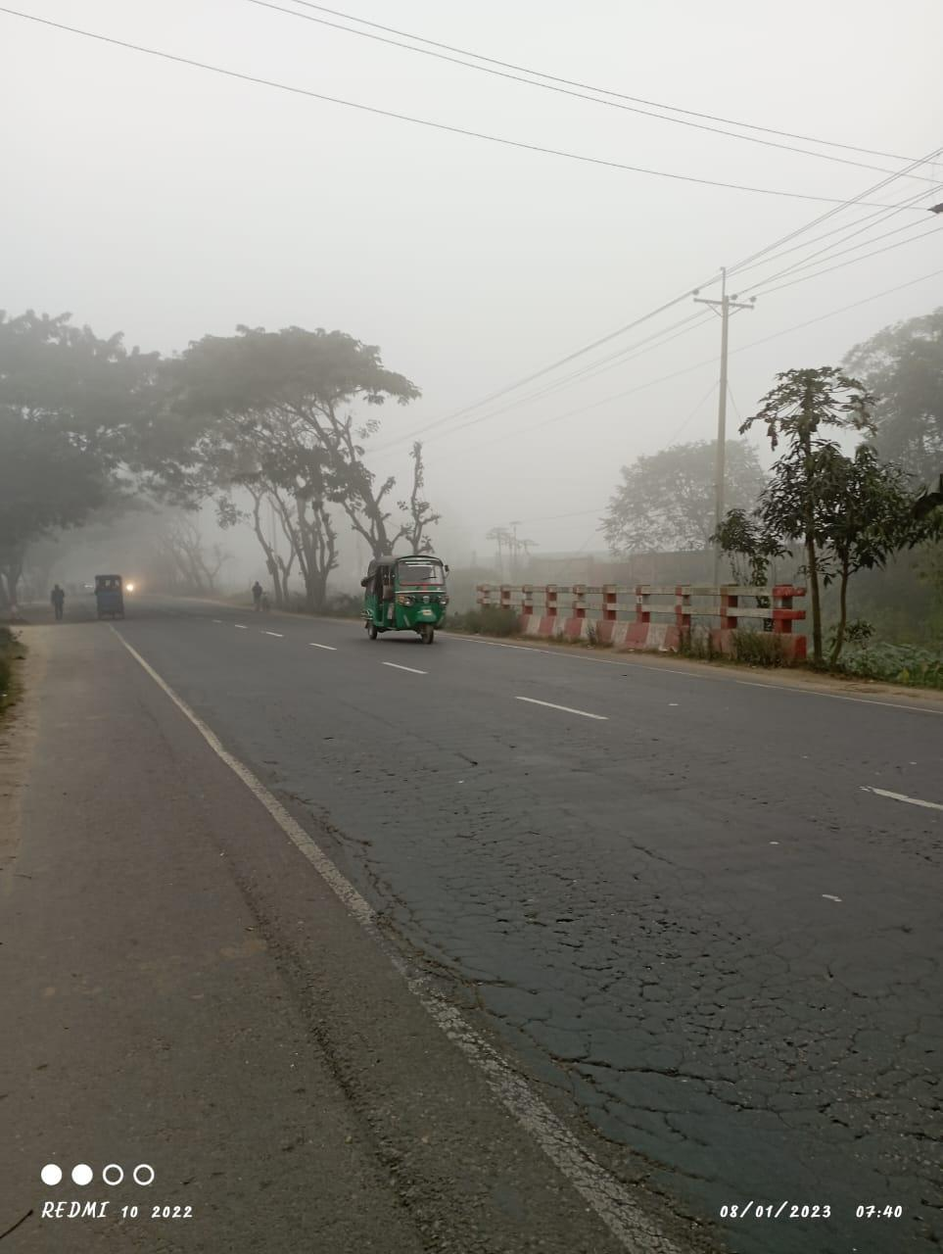Car: (86, 567, 135, 615)
